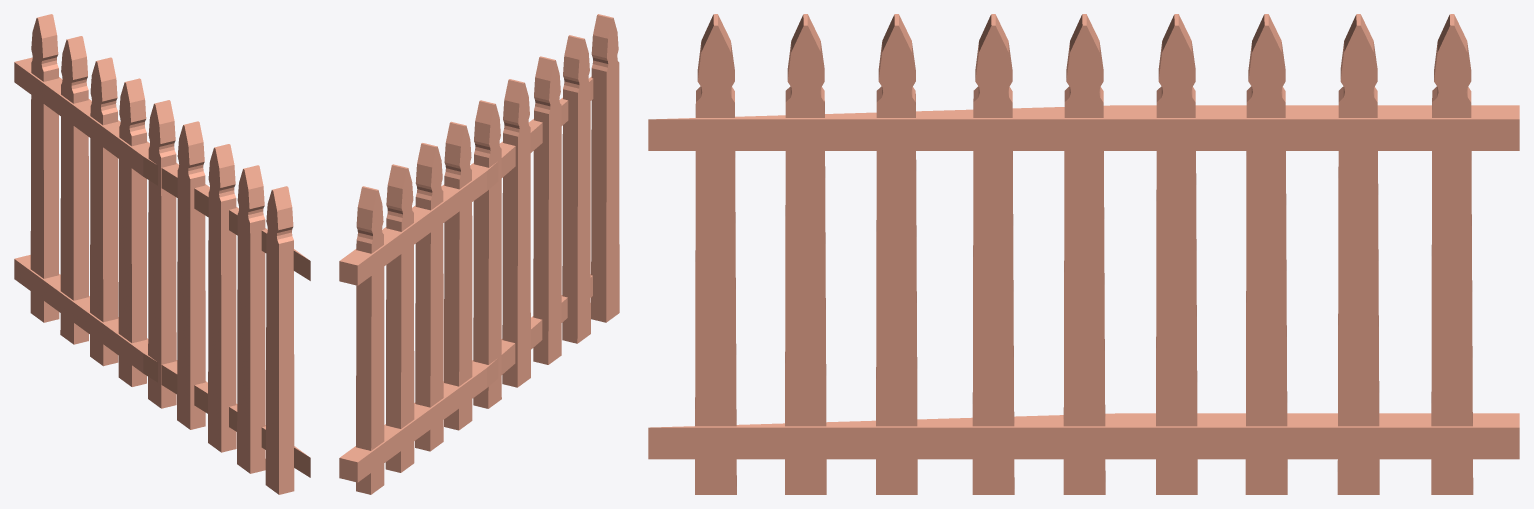
The model's file is fence_.fbx.
The picture shows the model from 3 angles, left to right: view 1: azimuth 30°, elevation 25°; view 2: azimuth 150°, elevation 25°; view 3: azimuth 270°, elevation 25°; orthographic projection. The views are drawn at different scales.
Parts seen in each view (by area): view 1: Cube.010; view 2: Cube.010; view 3: Cube.010.
Part boxes in pixels (x1,y1,x2,y2): Cube.010: [14, 14, 310, 494]; Cube.010: [339, 14, 619, 494]; Cube.010: [648, 14, 1519, 494].
Size of the model in its own units: 13.33 by 207 by 349.
